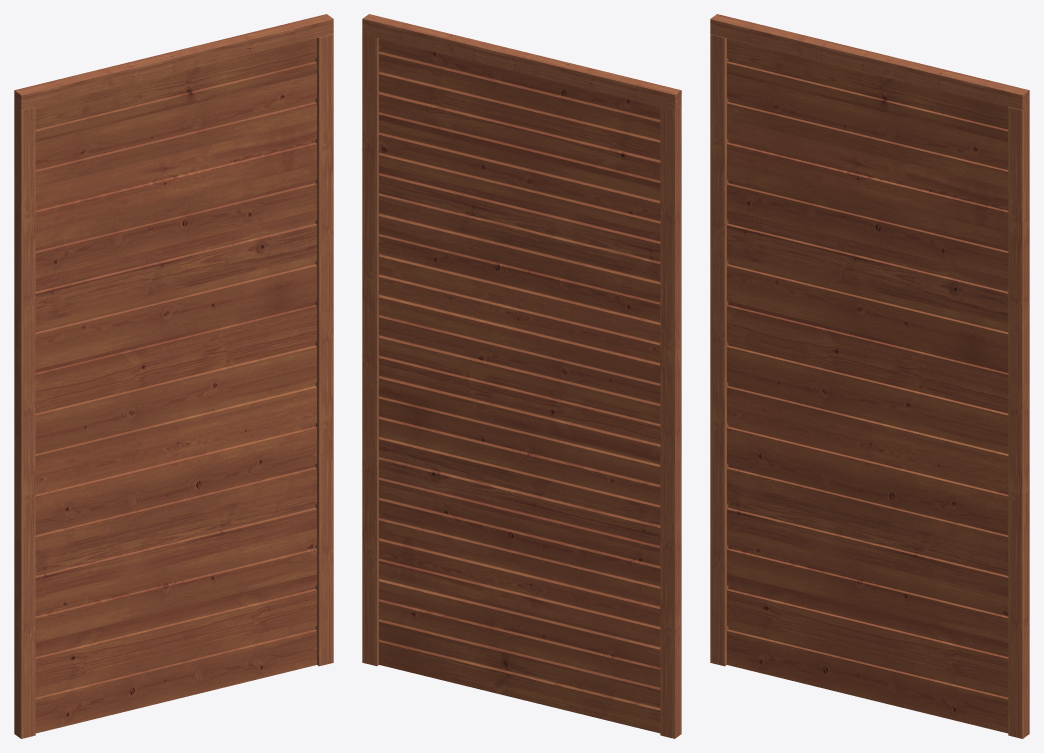
File: 4ftx7.875ft.obj
3 renders of one model, left to right at view 1: azimuth 30°, elevation 25°; view 2: azimuth 150°, elevation 25°; view 3: azimuth 330°, elevation 25°, orthographic.
Visible parts, largest first — view 1: wall_planks, trim_left, trim_right, trim_top; view 2: wall_planks, trim_left, trim_right, trim_top; view 3: wall_planks, trim_right, trim_left, trim_top.
Part boxes in pixels (x1,y1,x2,y2): wall_planks: (35, 38, 316, 733); trim_left: (14, 106, 35, 738); trim_right: (315, 34, 333, 666); trim_top: (14, 14, 333, 110); wall_planks: (379, 38, 660, 733); trim_left: (660, 106, 681, 738); trim_right: (362, 34, 379, 666); trim_top: (362, 14, 681, 110); wall_planks: (727, 38, 1008, 733); trim_right: (1008, 106, 1029, 738); trim_left: (710, 34, 728, 666); trim_top: (710, 14, 1029, 110).
Bounding box in the file's own units: 48 × 94.5 × 1.82.
